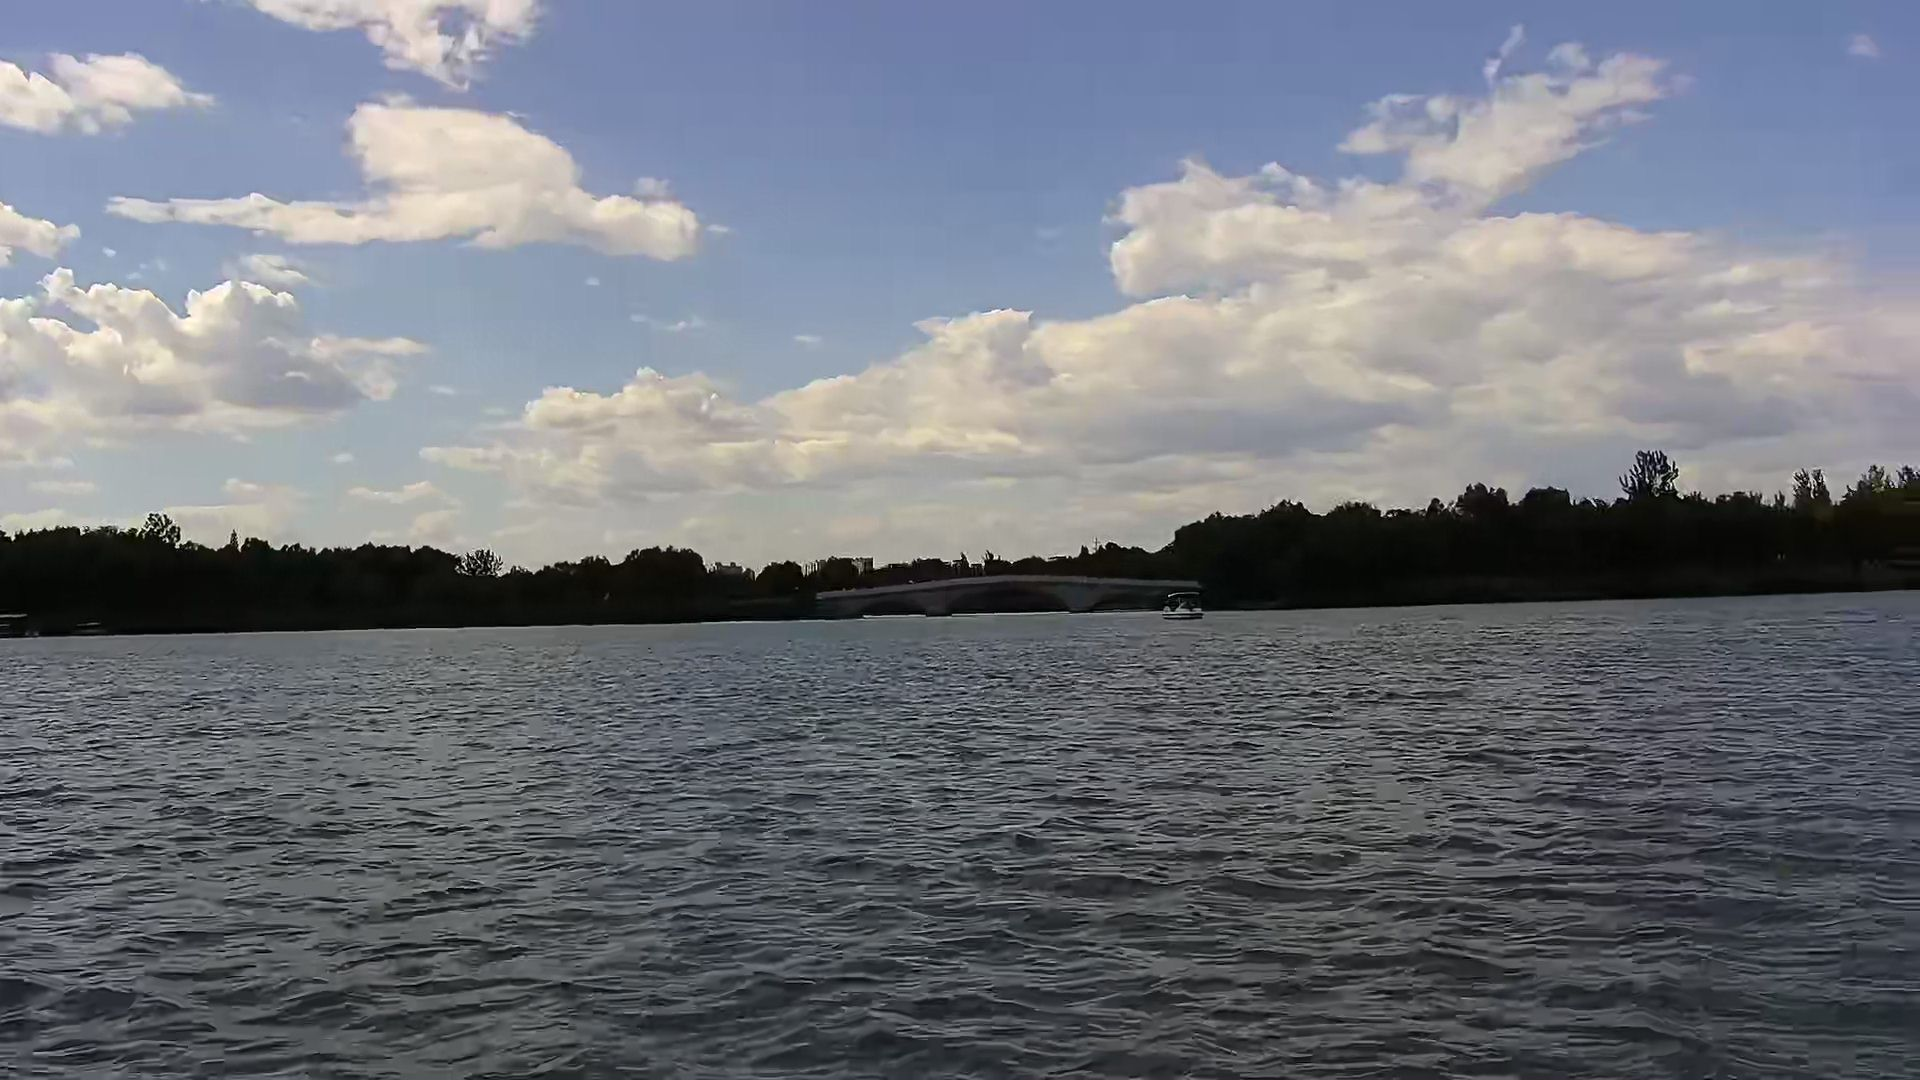boat: (1163, 588, 1207, 621)
bridge: (819, 574, 1205, 617)
